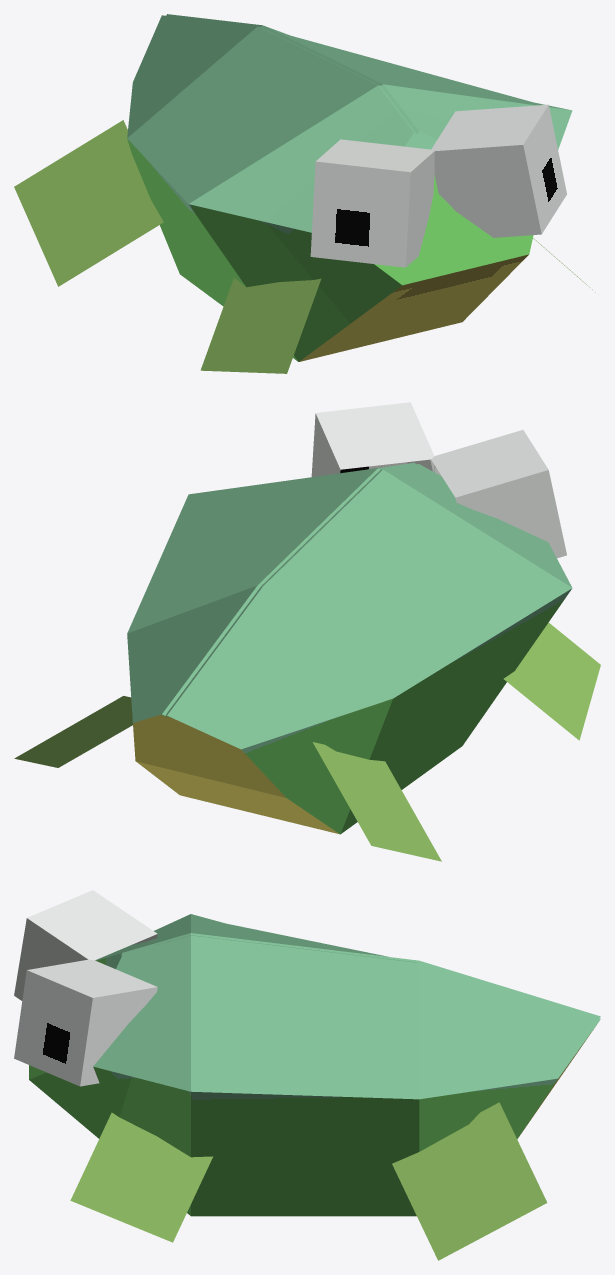
Rendered from Frog.fbx.
3 renders of one model, top to bottom at view 1: azimuth 30°, elevation 25°; view 2: azimuth 150°, elevation 25°; view 3: azimuth 270°, elevation 25°, orthographic. The views are drawn at different scales.
Parts seen in each view (by area): view 1: Cylinder; view 2: Cylinder; view 3: Cylinder.
Part boxes in pixels (x1,y1,x2,y2): Cylinder: [14, 14, 595, 373]; Cylinder: [14, 402, 600, 861]; Cylinder: [14, 890, 600, 1260].
Bounding box in the file's own units: 91.9 × 58.98 × 128.
